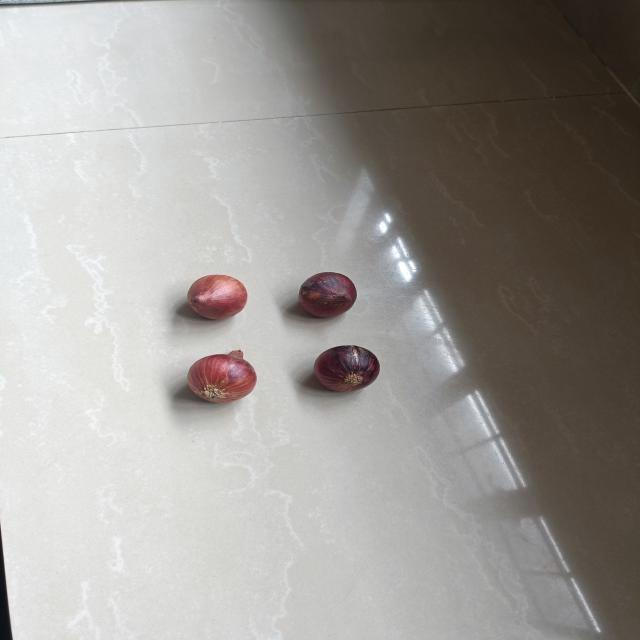onion: (182, 348, 261, 409), (309, 342, 384, 398), (183, 271, 253, 321), (295, 269, 359, 320)
